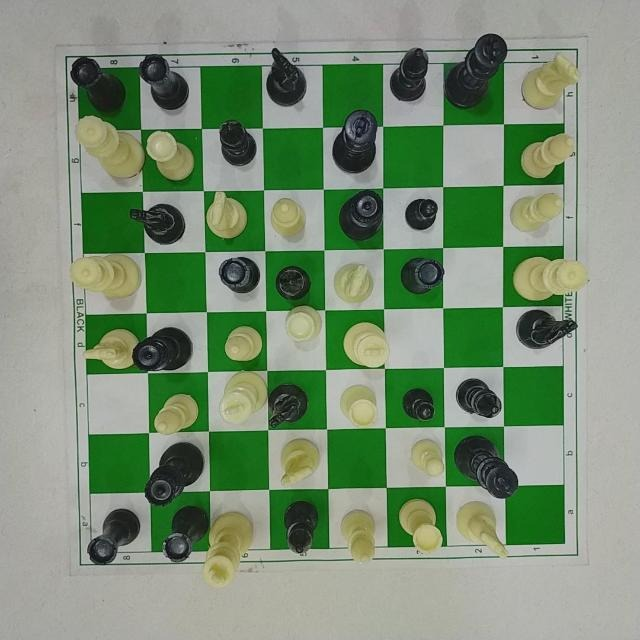black-bishop: (383, 38, 435, 108), (210, 112, 262, 176), (279, 498, 327, 560), (454, 372, 508, 426), (273, 265, 313, 303)
black-king: (450, 429, 528, 507), (438, 31, 514, 109), (323, 105, 387, 181)
black-knight: (256, 35, 318, 110), (507, 305, 588, 357), (119, 196, 193, 248), (256, 377, 320, 430)
black-pawn: (400, 384, 447, 434), (400, 193, 446, 237)
black-queen: (136, 438, 212, 509), (131, 321, 193, 383), (337, 185, 392, 242)
black-rook: (77, 505, 148, 571), (61, 49, 129, 117), (135, 40, 197, 114), (156, 495, 218, 567), (208, 248, 263, 304), (396, 247, 443, 297)
white-bishop: (515, 129, 587, 187), (335, 499, 383, 576), (508, 190, 578, 240), (148, 385, 206, 438), (264, 191, 312, 247), (216, 316, 268, 365)
white-king: (195, 503, 262, 592), (334, 311, 399, 375), (210, 362, 270, 431)
white-knight: (514, 46, 588, 114), (451, 498, 518, 562), (199, 182, 259, 246), (79, 323, 143, 373), (277, 432, 329, 490), (329, 258, 376, 310)
white-pawn: (406, 439, 453, 483)
white-queen: (71, 111, 147, 184), (508, 249, 594, 307), (65, 248, 145, 306)
white-rook: (389, 496, 448, 560), (140, 124, 197, 190), (337, 376, 385, 431), (281, 302, 323, 344)
